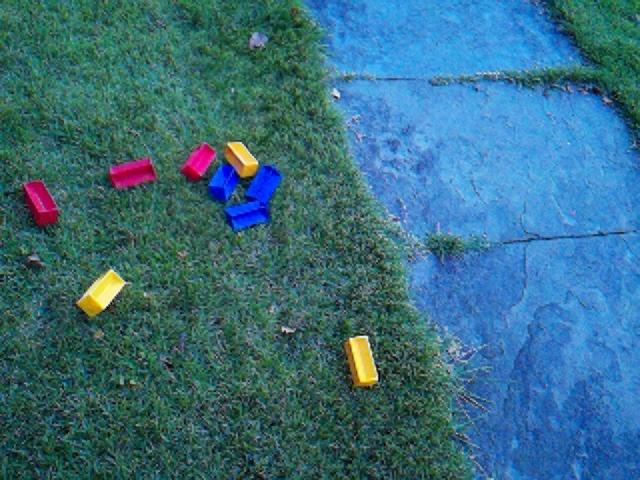blue: (224, 199, 271, 233), (245, 163, 283, 205), (208, 162, 240, 202)
red: (22, 178, 60, 227), (108, 156, 158, 190), (180, 141, 217, 183)
yellow: (76, 268, 128, 319), (345, 334, 380, 389), (224, 139, 260, 179)
